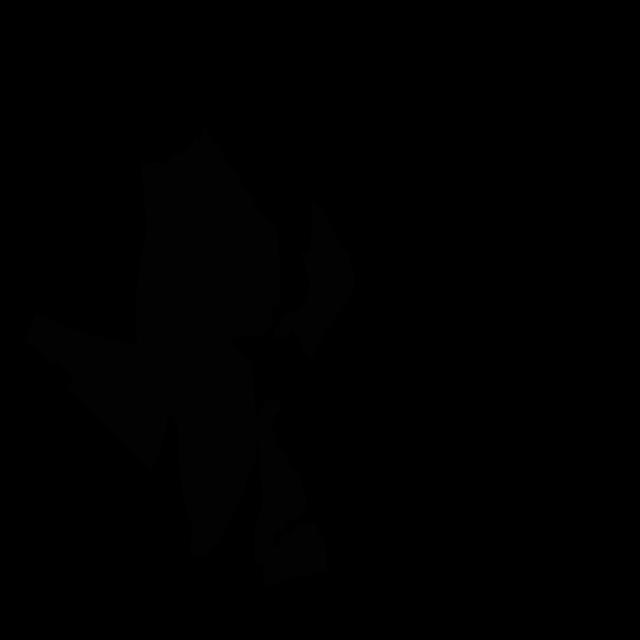cardboard: (135, 184, 258, 559), (141, 128, 281, 343), (24, 313, 168, 471), (254, 399, 328, 586), (273, 200, 355, 360)
